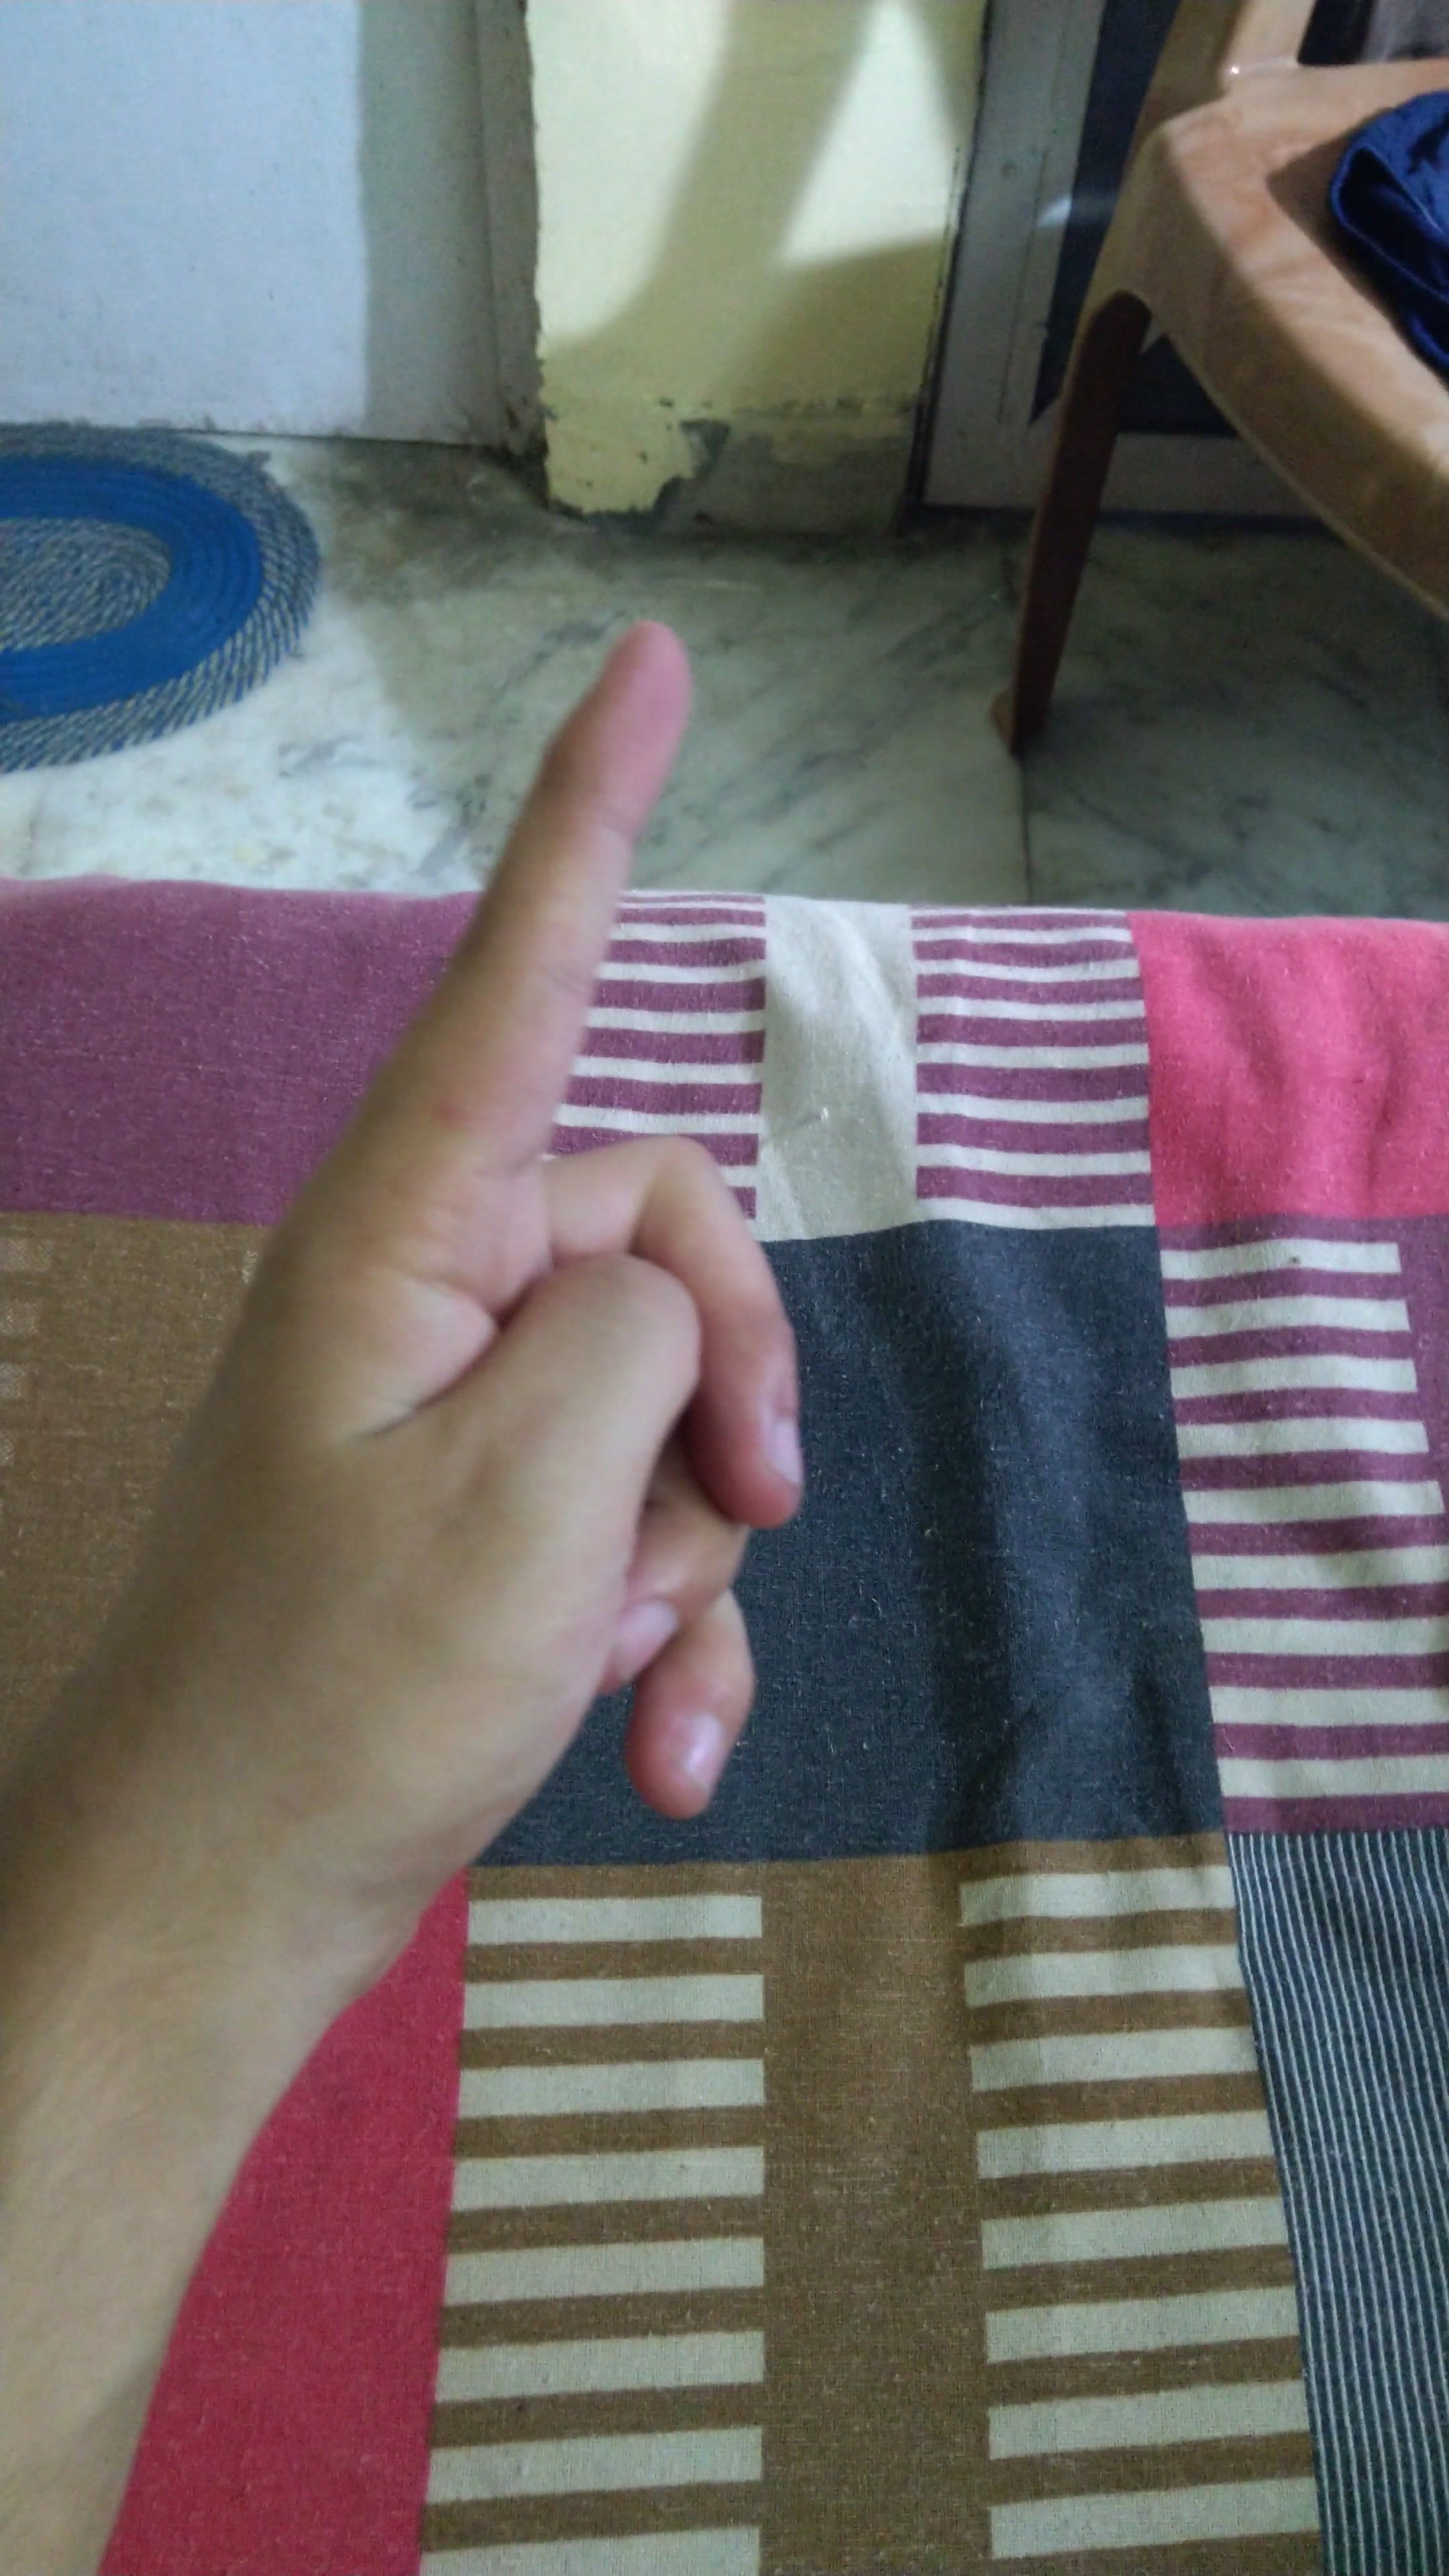hand: (108, 582, 885, 1985)
